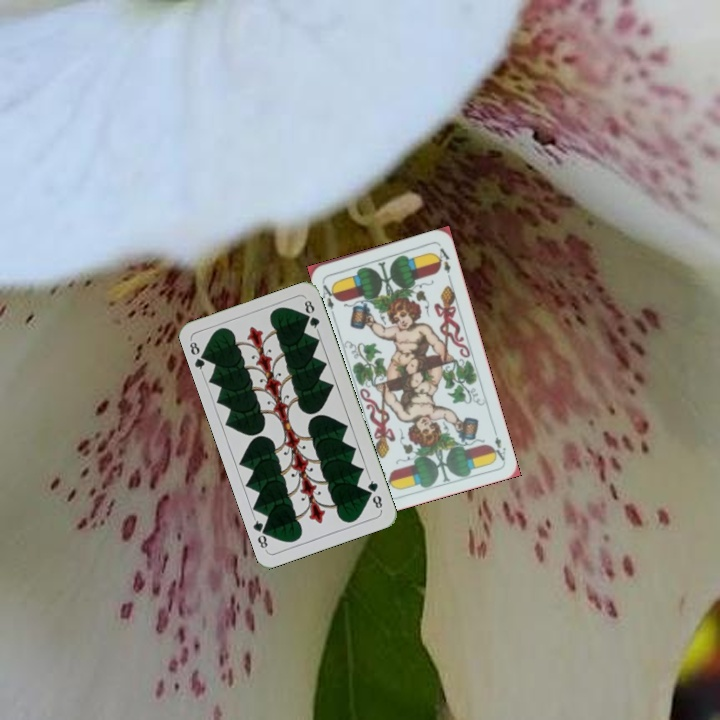EA: (318, 277, 340, 317), (487, 424, 508, 463)
G8: (185, 336, 211, 376), (364, 474, 385, 513)
